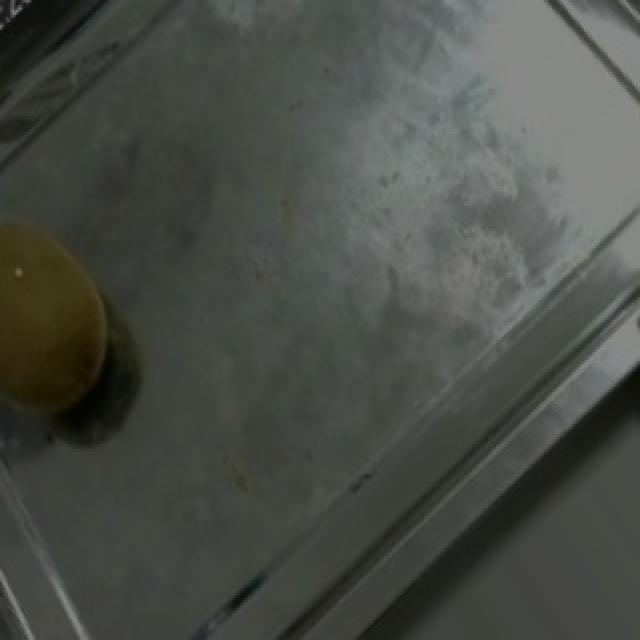Fruit: (0, 174, 156, 466)
